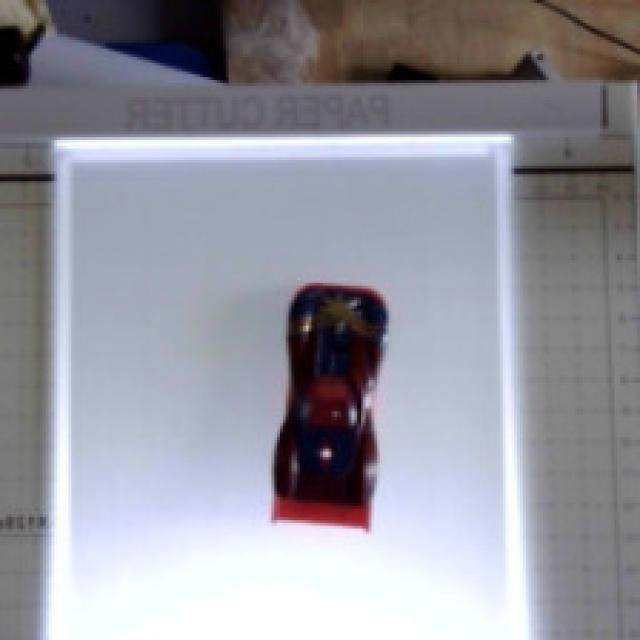Red Car: (230, 249, 443, 579)
